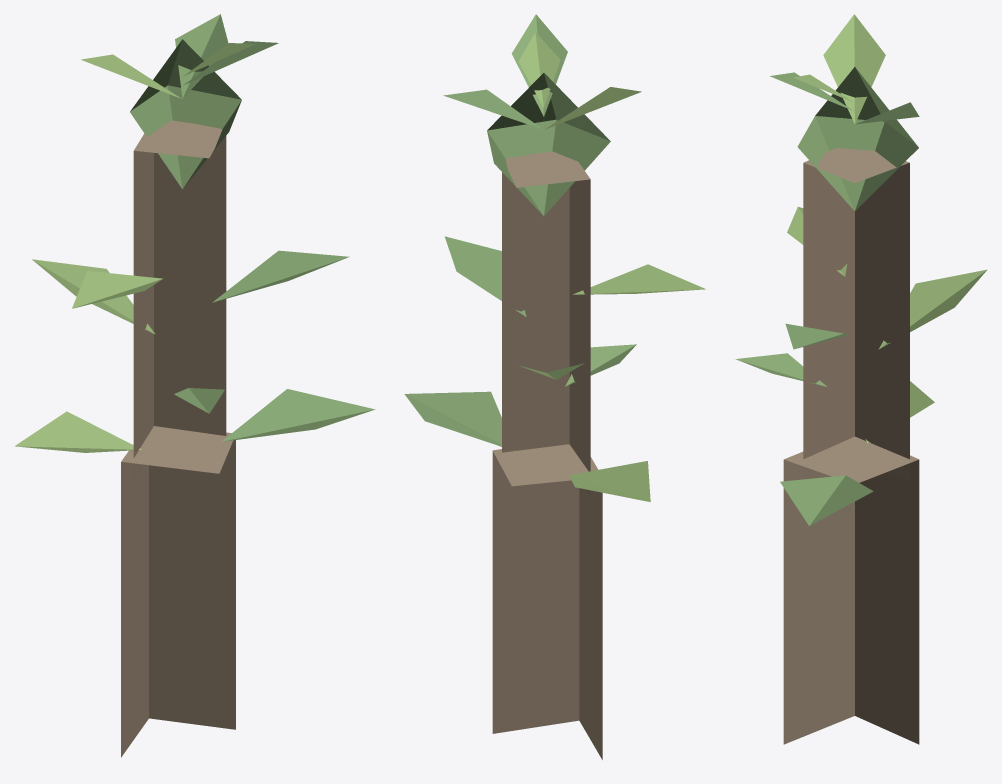
File: shu.yezi@seedling__bloom.glb
The picture shows the model from 3 angles, left to right: view 1: azimuth 30°, elevation 25°; view 2: azimuth 150°, elevation 25°; view 3: azimuth 270°, elevation 25°; orthographic projection. The views are drawn at different scales.
Visible parts, largest first — view 1: shu.yezi@seedling__bloom; view 2: shu.yezi@seedling__bloom; view 3: shu.yezi@seedling__bloom.
Part boxes in pixels (<box>): shu.yezi@seedling__bloom: <box>15,14,375,757</box>; shu.yezi@seedling__bloom: <box>404,14,705,759</box>; shu.yezi@seedling__bloom: <box>735,14,986,744</box>.
Size of the model in its own units: 0.4278 by 0.9492 by 0.3134.
